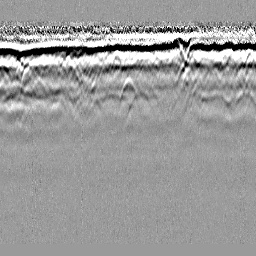cavity: (116, 75, 142, 118)
